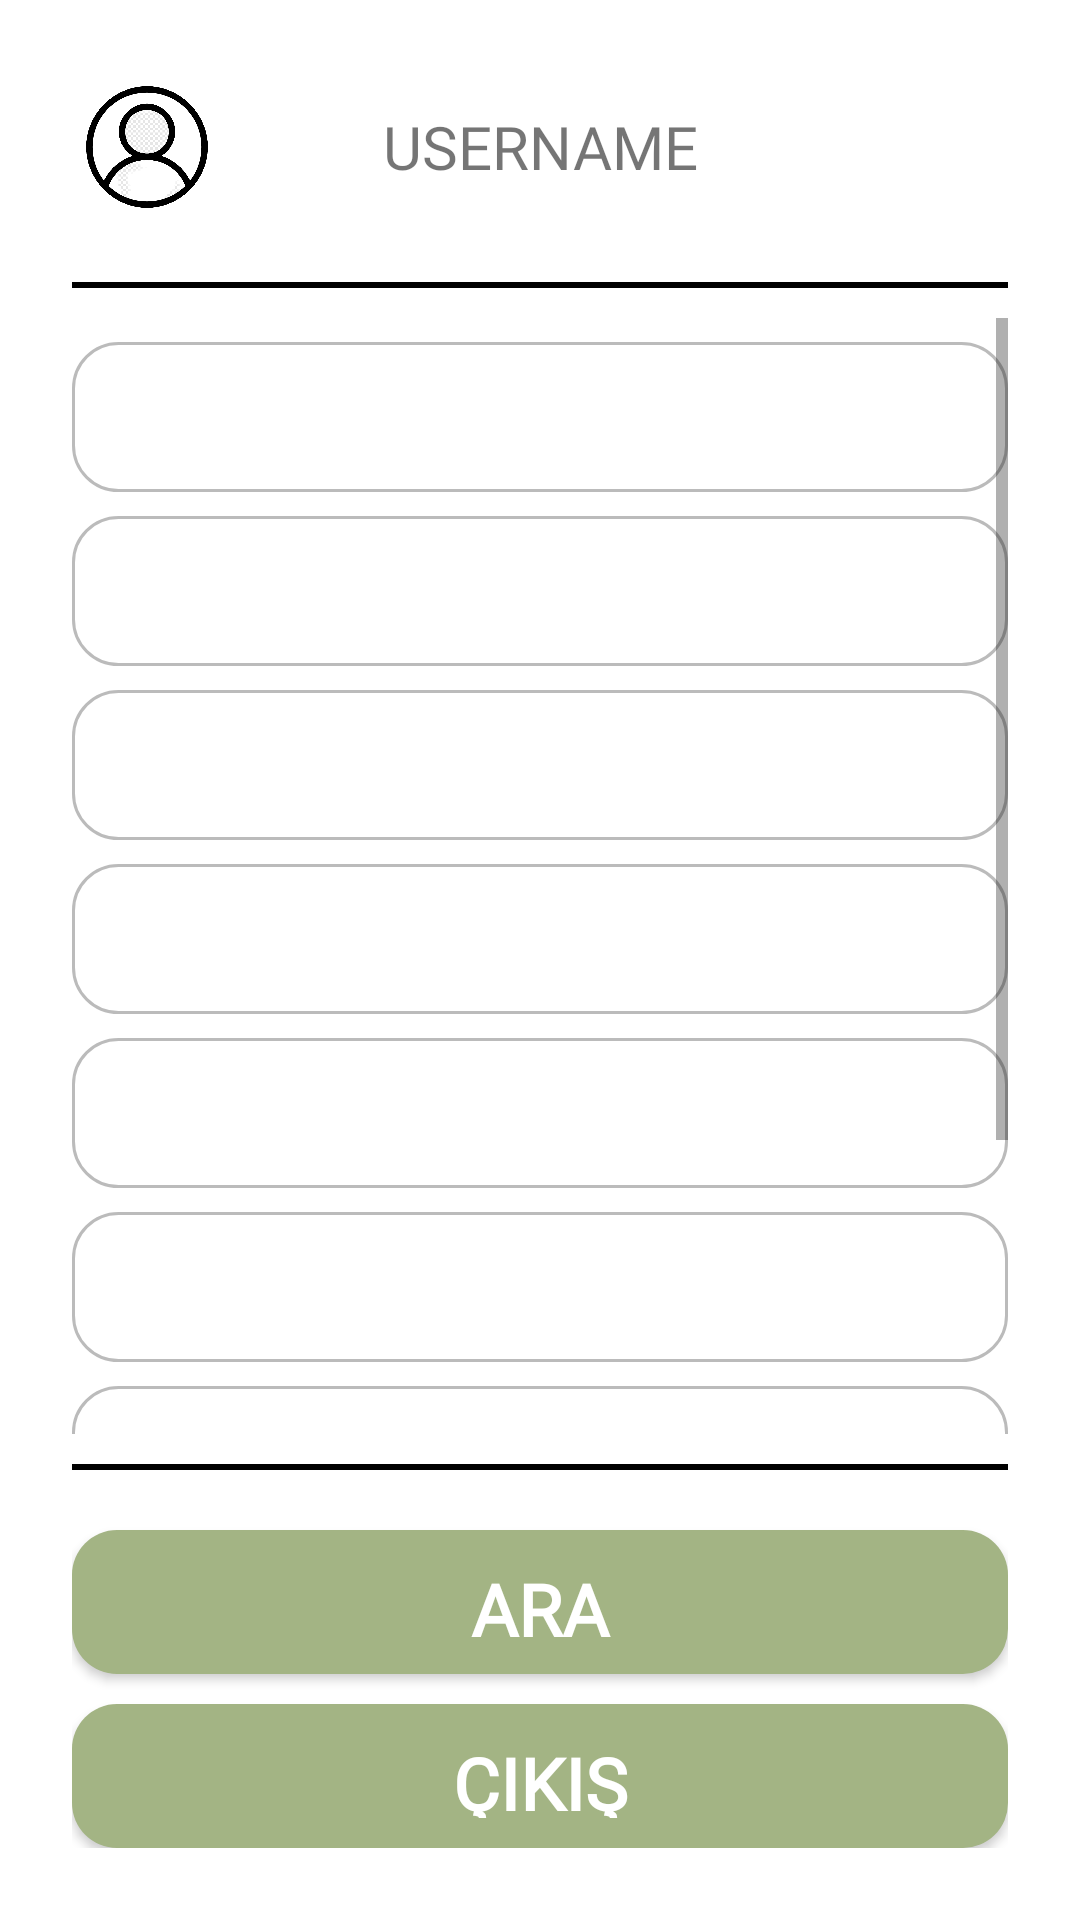

Icon click points for this 1080x1920 phone screenshot, format point (x, y):
profile: point (147, 147)
